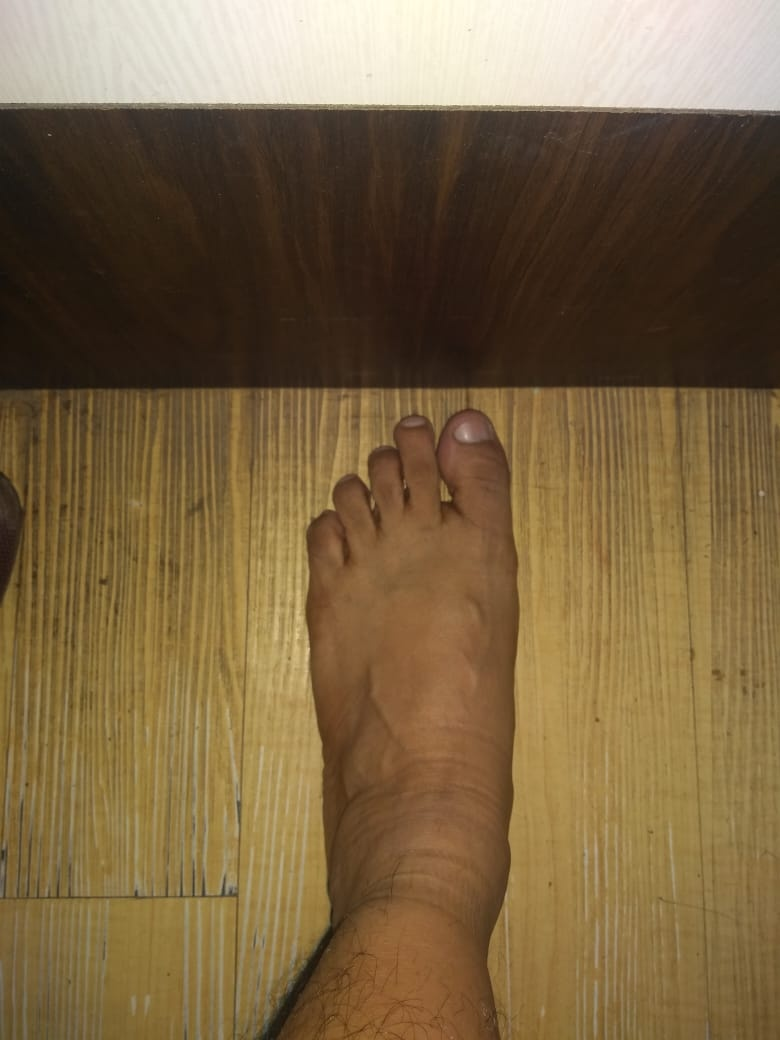feet: (237, 380, 533, 982)
